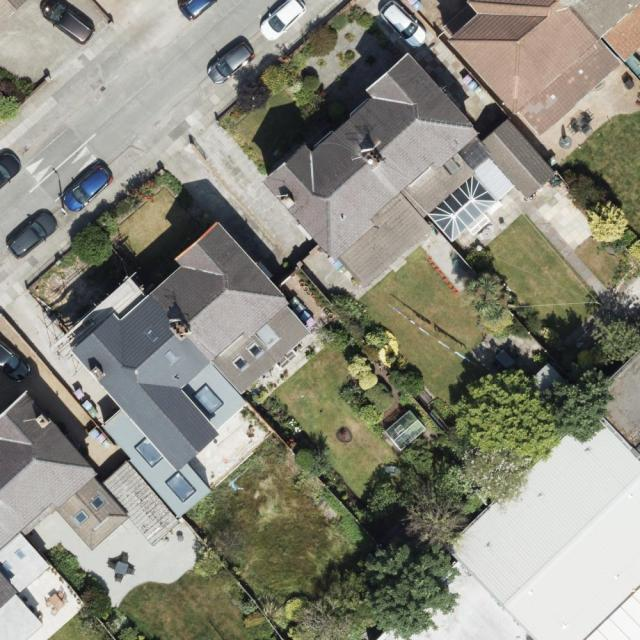roof: (0, 222, 315, 640), (375, 350, 640, 640), (262, 52, 559, 292), (446, 0, 640, 135)
skylight: (428, 174, 499, 242), (191, 382, 224, 416), (166, 472, 196, 503), (135, 438, 163, 468), (232, 353, 250, 372), (247, 341, 265, 359), (89, 495, 106, 510), (164, 349, 178, 365), (73, 511, 88, 525), (145, 328, 160, 342)
